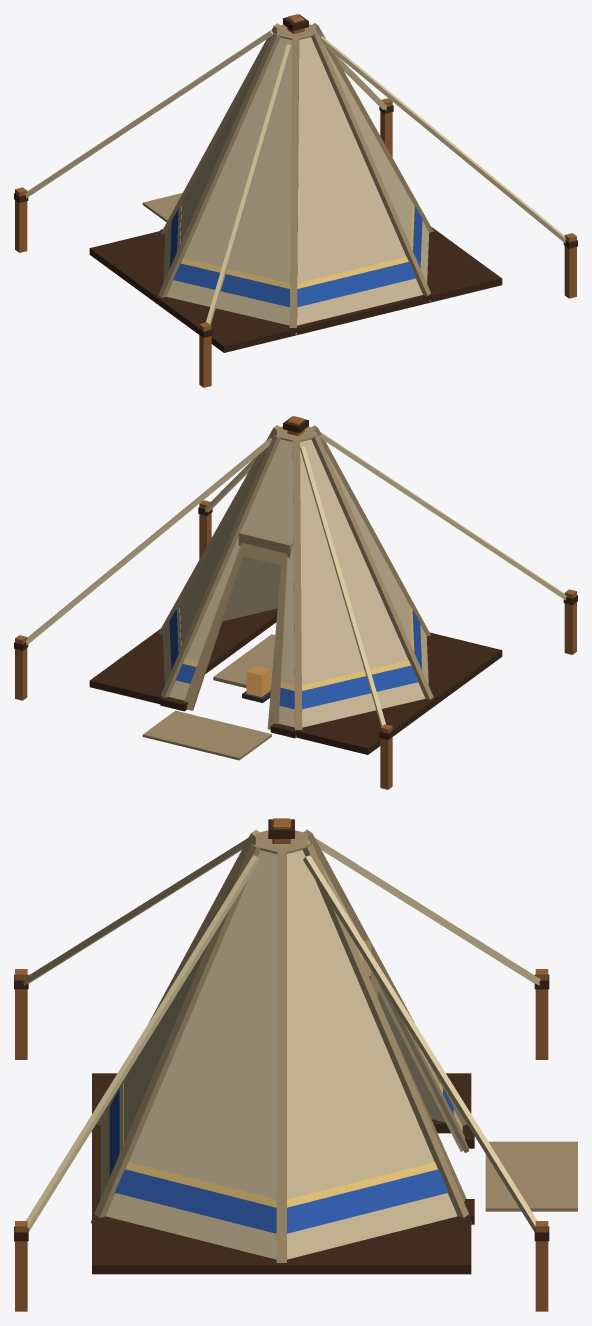
File: 初级帐篷_手游_近.glb
3 views of the same model, one above another, from view 1: azimuth 30°, elevation 25°; view 2: azimuth 150°, elevation 25°; view 3: azimuth 270°, elevation 25° (orthographic). The views are drawn at different scales.
Visible parts, largest first — view 1: TN1-主体, TN1-team, TN1-team_trim; view 2: TN1-主体, TN1-team, TN1-team_trim, TN1-自发光; view 3: TN1-主体, TN1-team, TN1-team_trim.
Part boxes in pixels (x1=…): TN1-主体: x1=14, y1=14, x2=577, y2=387; TN1-team: x1=169, y1=206, x2=422, y2=307; TN1-team_trim: x1=177, y1=202, x2=414, y2=288; TN1-主体: x1=14, y1=416, x2=577, y2=789; TN1-team: x1=169, y1=608, x2=422, y2=709; TN1-team_trim: x1=177, y1=604, x2=414, y2=690; TN1-自发光: x1=246, y1=665, x2=270, y2=697; TN1-主体: x1=14, y1=818, x2=577, y2=1311; TN1-team: x1=109, y1=1088, x2=453, y2=1233; TN1-team_trim: x1=120, y1=1083, x2=442, y2=1207.
Bounding box in the file's own units: 3.57 × 2.33 × 3.29.
4 materials, 2 textured.
